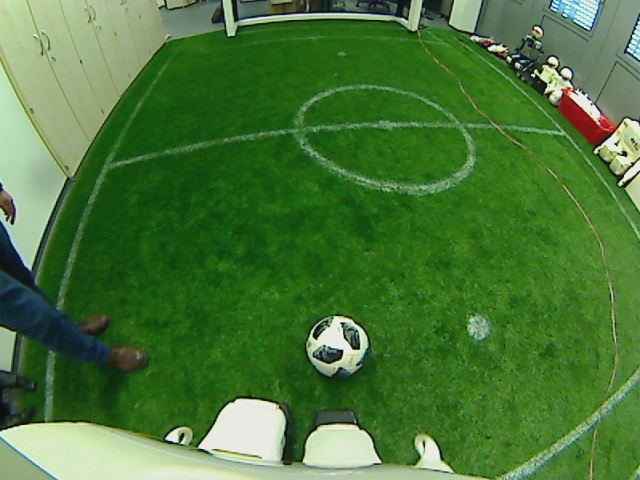ball: (302, 311, 373, 381)
